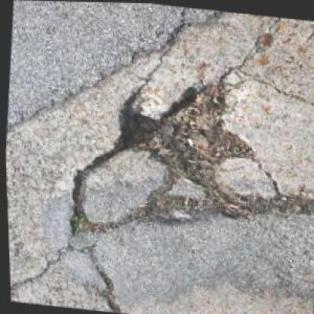Hueco: (58, 63, 297, 257)
